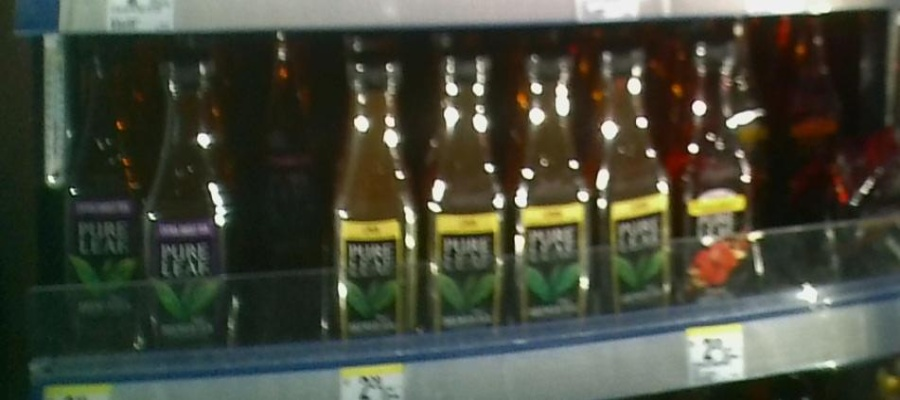bottle: (144, 46, 235, 350), (328, 53, 417, 351), (420, 48, 508, 346), (509, 44, 595, 341), (61, 44, 142, 350), (596, 35, 674, 328), (679, 33, 751, 309), (252, 36, 318, 259)
